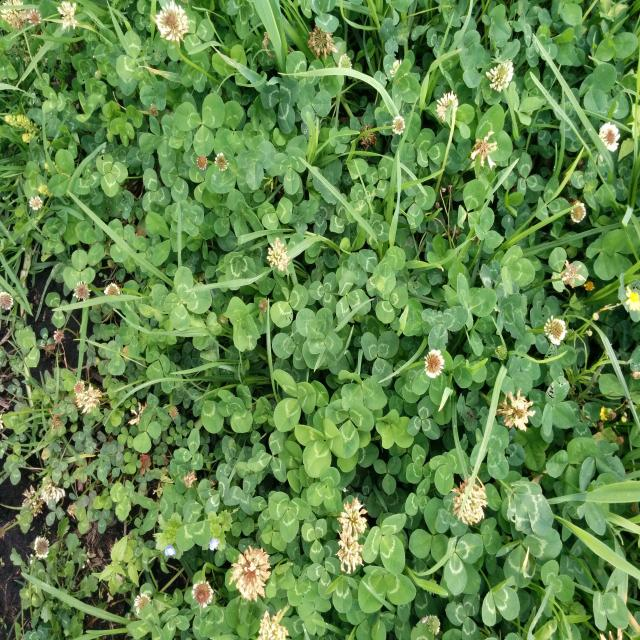Four Leaf Clover: (163, 266, 212, 330)
